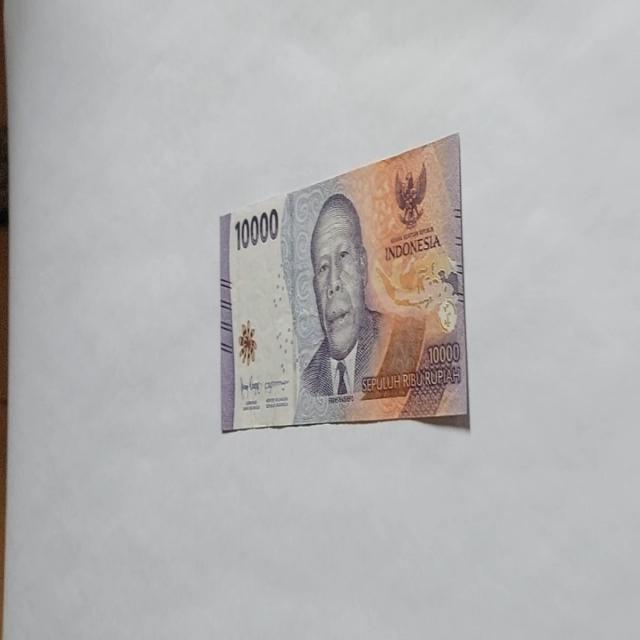sepuluh ribu rupiah: (218, 132, 470, 434), (294, 190, 384, 412)
